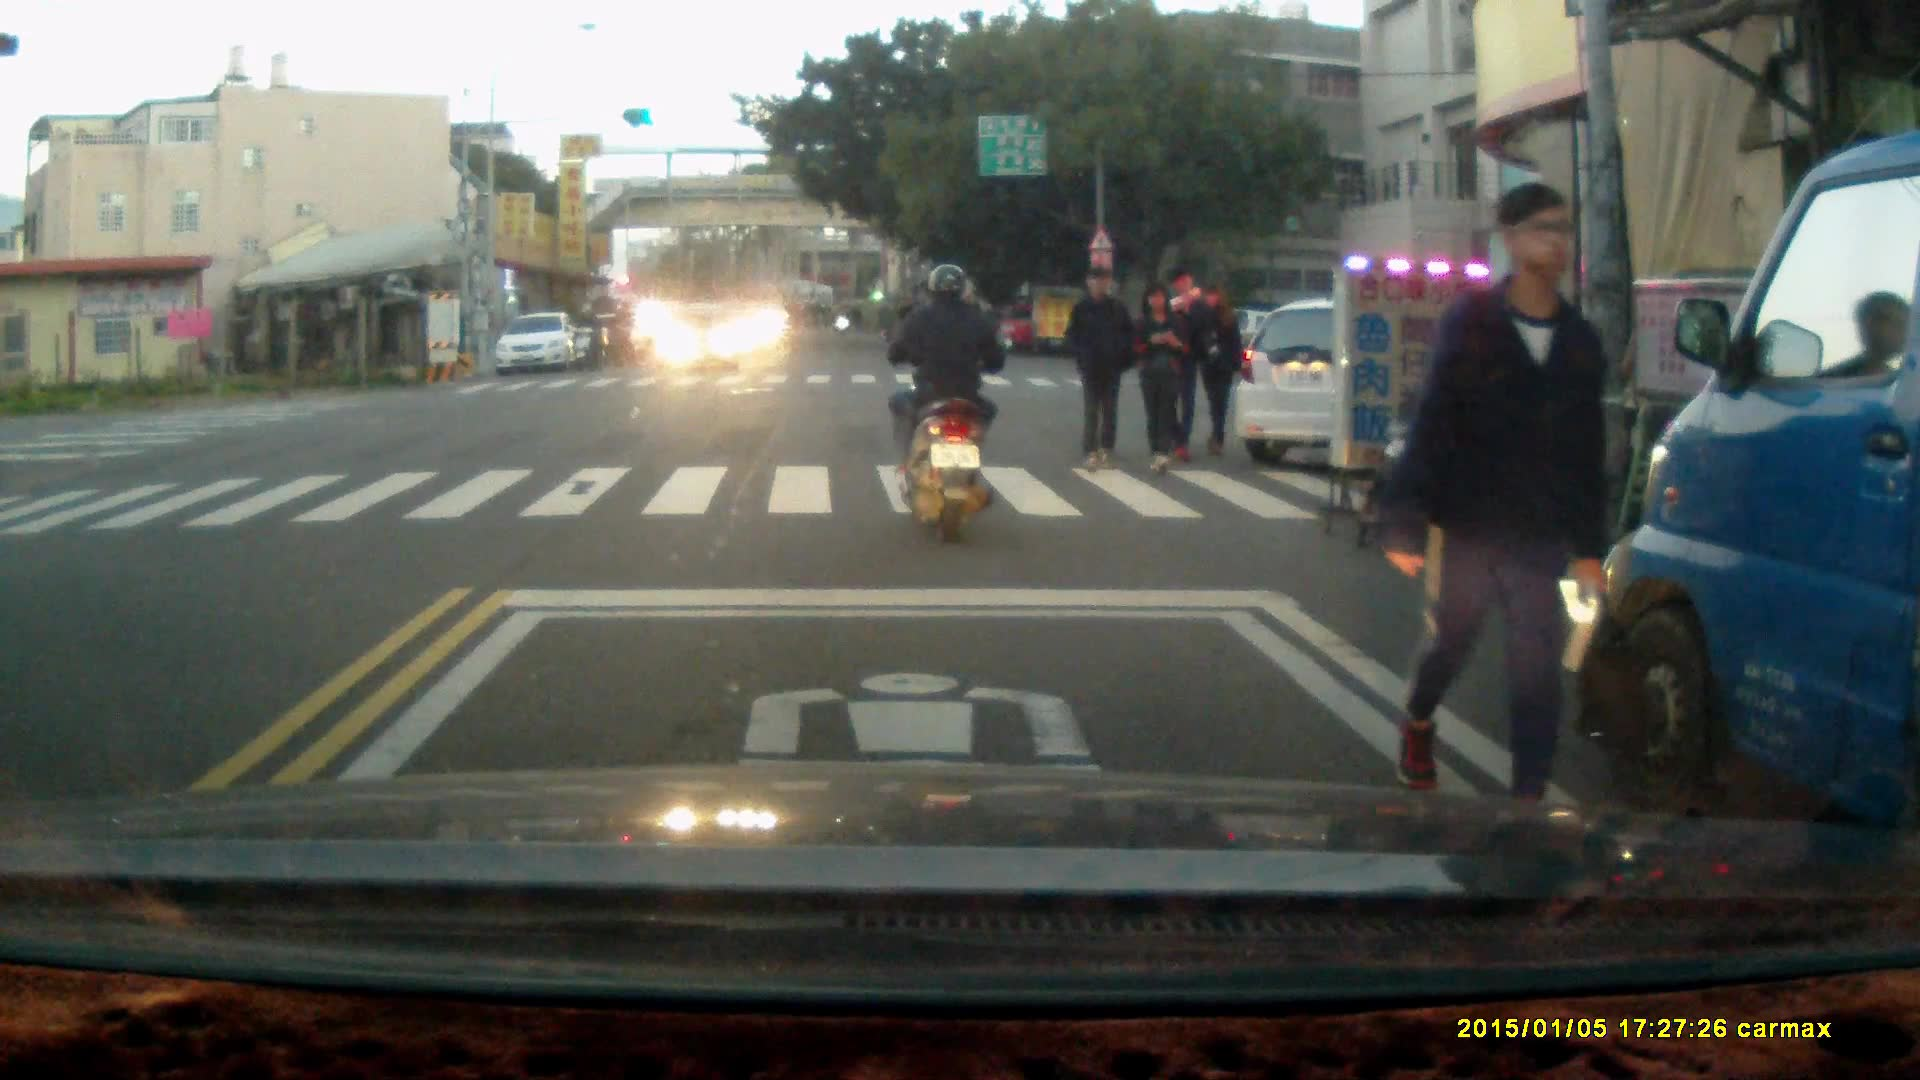pedestrian: (1384, 177, 1615, 836), (1063, 263, 1131, 471), (1130, 280, 1190, 480), (1161, 265, 1206, 467), (1192, 284, 1243, 460)
rider: (884, 261, 1012, 547), (570, 298, 602, 373), (602, 295, 636, 370)
vehicle: (1593, 128, 1920, 892), (1235, 303, 1554, 467), (650, 301, 744, 374), (493, 311, 584, 378)
